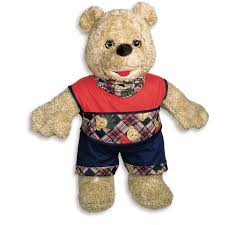teddy: (8, 4, 215, 217)
